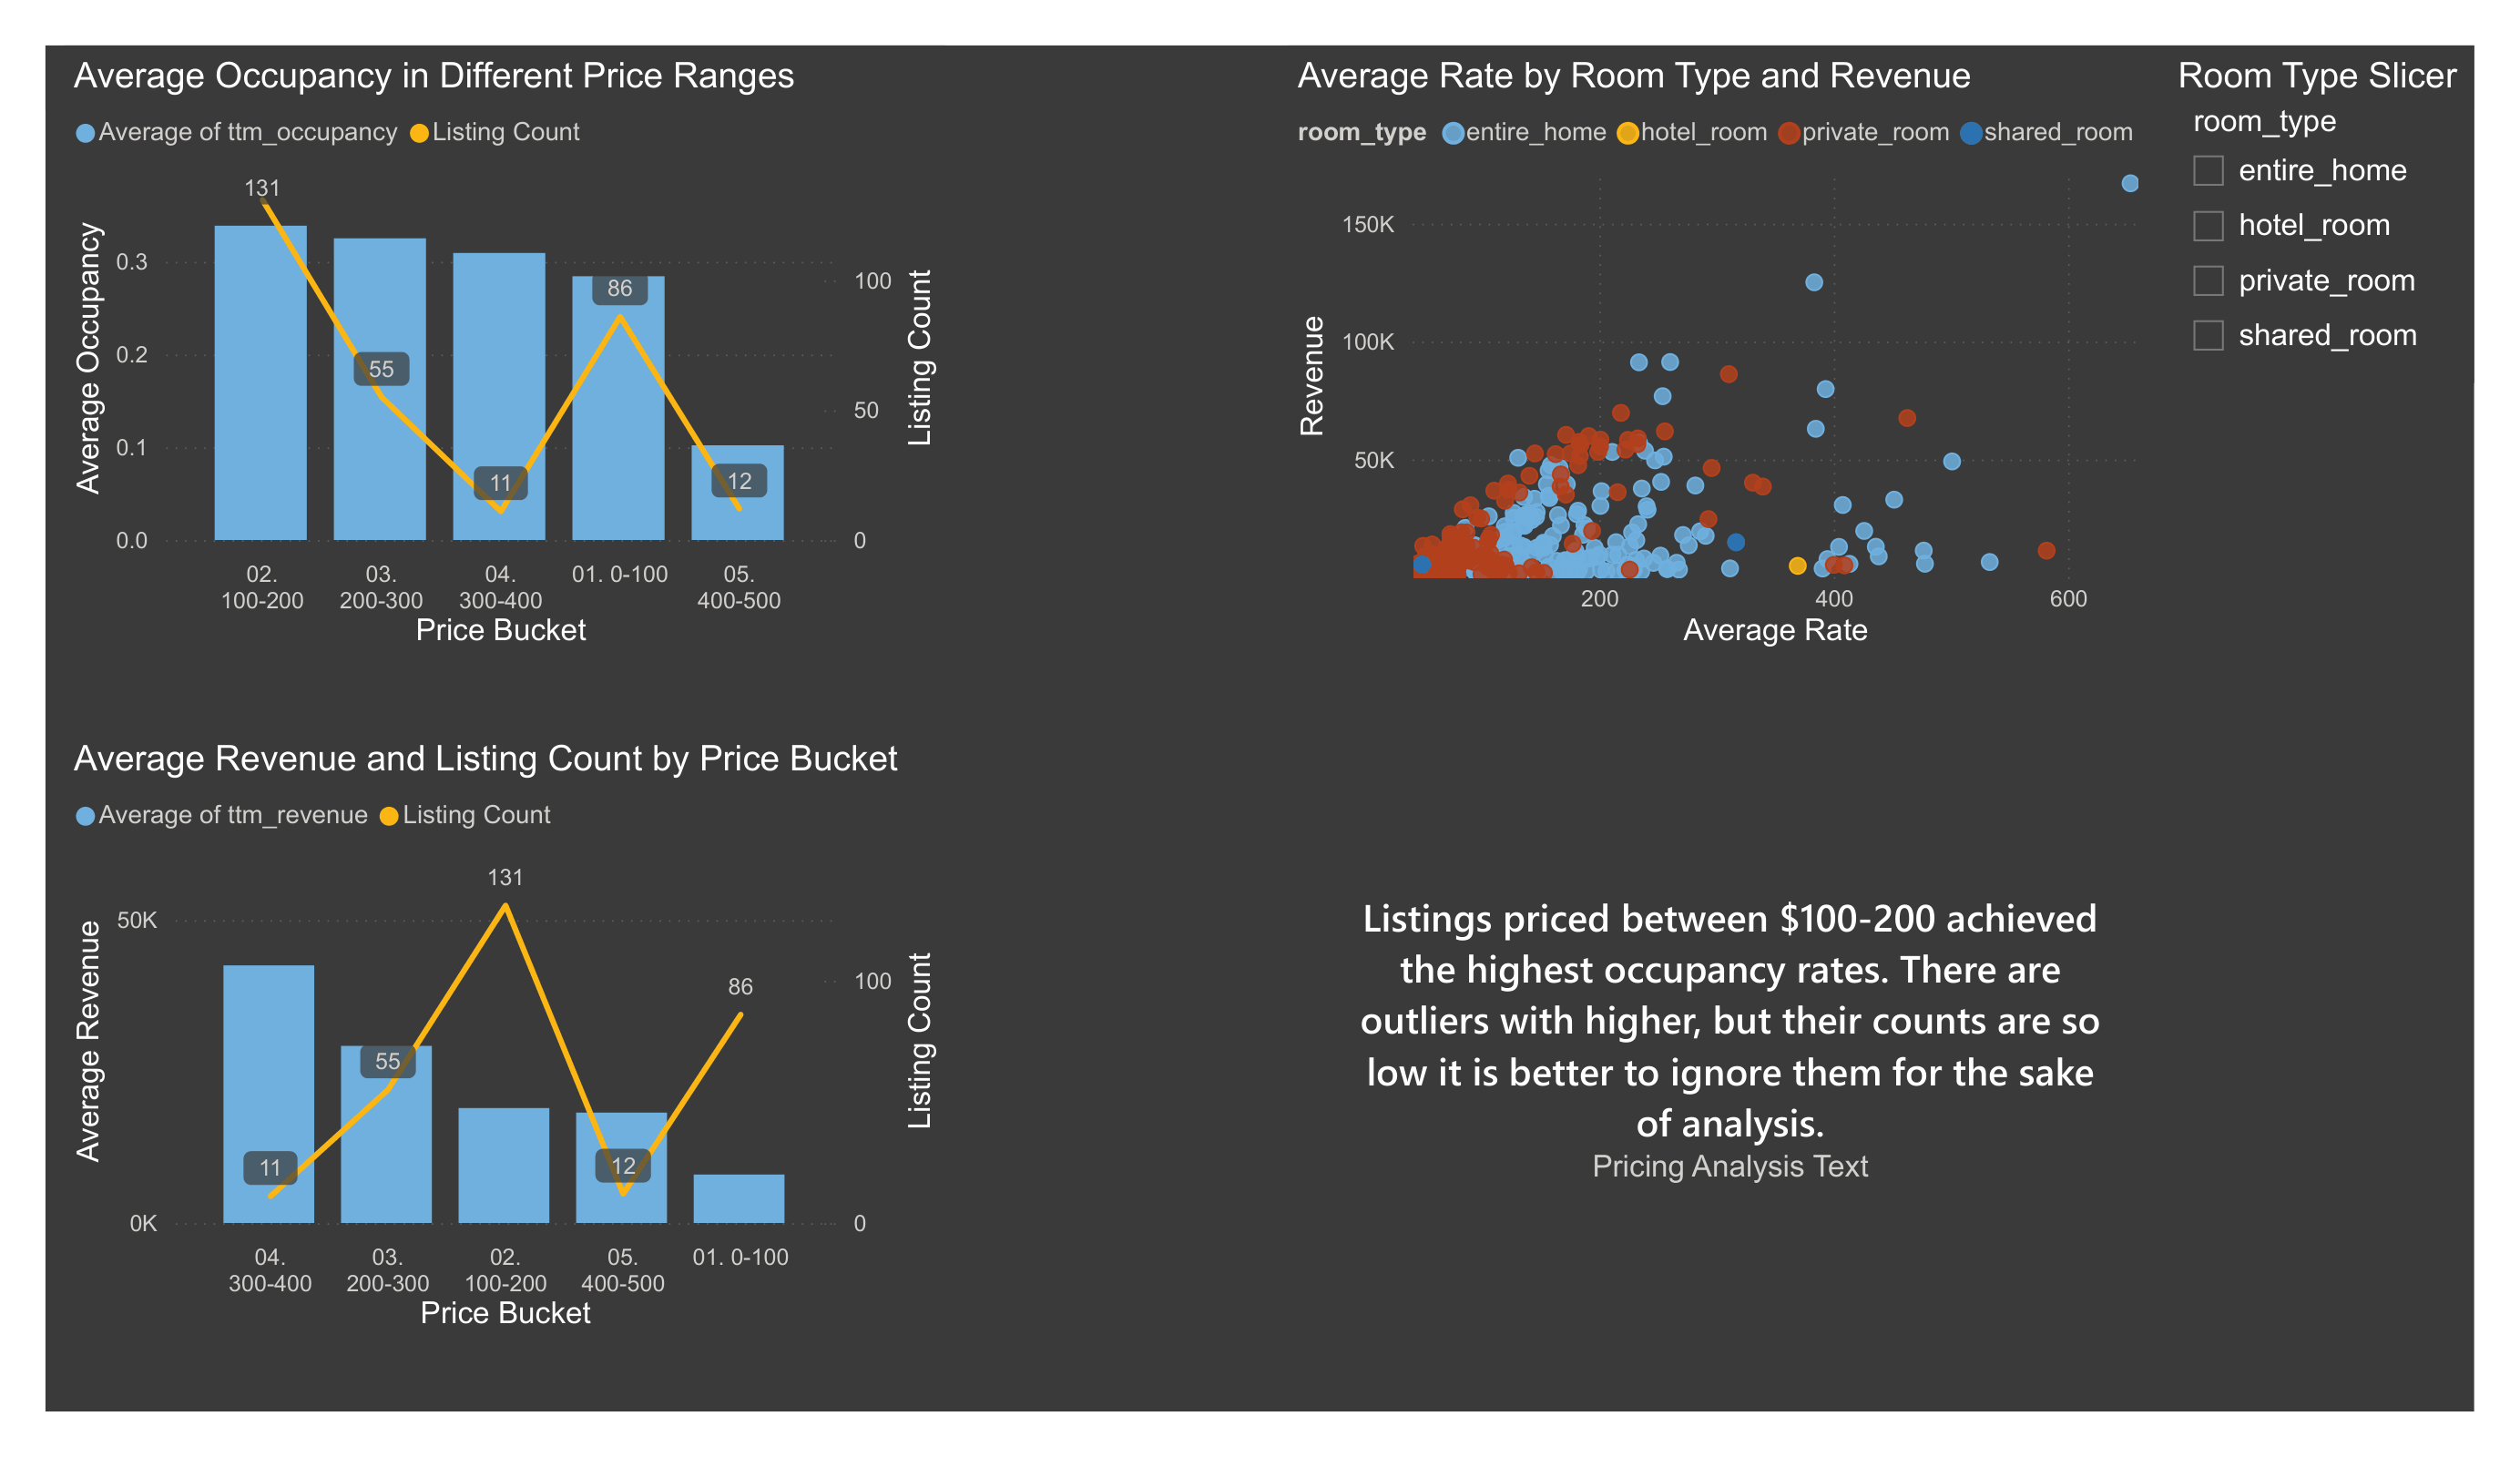

This screenshot's page, from the dashboard's own definition file:
{"tool":"powerbi","page":{"name":"Pricing Analysis","canvas":[1280,720],"ordinal":1},"visuals":[{"type":"lineClusteredColumnComboChart","title":"Average Occupancy in Different Price Ranges","fields":{"Category":["listingdata1.Price Bucket"],"Y":["Avg(listingdata1.ttm_occupancy)"],"Y2":["listingdata1.Listing Count"]},"box":[10,0,464,322],"z":0},{"type":"lineStackedColumnComboChart","title":"Average Revenue and Listing Count by Price Bucket","fields":{"Category":["listingdata1.Price Bucket"],"Y":["Avg(listingdata1.ttm_revenue)"],"Y2":["listingdata1.Listing Count"]},"box":[10,360,464,322],"z":1000},{"type":"scatterChart","title":"Average Rate by Room Type and Revenue","fields":{"X":["Avg(listingdata1.ttm_avg_rate)"],"Y":["listingdata1.ttm_revenue"],"Series":["listingdata1.room_type"]},"box":[655,0,464,322],"z":2000},{"type":"cardVisual","fields":{"Data":["listingdata1.Pricing Analysis Text"]},"box":[655,360,464,322],"z":3000},{"type":"slicer","title":"Room Type Slicer","fields":{"Values":["listingdata1.room_type"]},"box":[1119,0,161,178],"z":4000}]}

Visuals, with their boxes on the page's 1280x720 design canvas (x1, y1, x2, y2). These are canvas units, not pixel positions in the 2520x1457 screenshot, which may show the page scaled, cropped or inside an application window:
"Average Occupancy in Different Price Ranges" lineClusteredColumnComboChart: BBox(10, 0, 474, 322)
"Average Revenue and Listing Count by Price Bucket" lineStackedColumnComboChart: BBox(10, 360, 474, 682)
"Average Rate by Room Type and Revenue" scatterChart: BBox(655, 0, 1119, 322)
cardVisual - listingdata1.Pricing Analysis Text: BBox(655, 360, 1119, 682)
"Room Type Slicer" slicer: BBox(1119, 0, 1280, 178)
